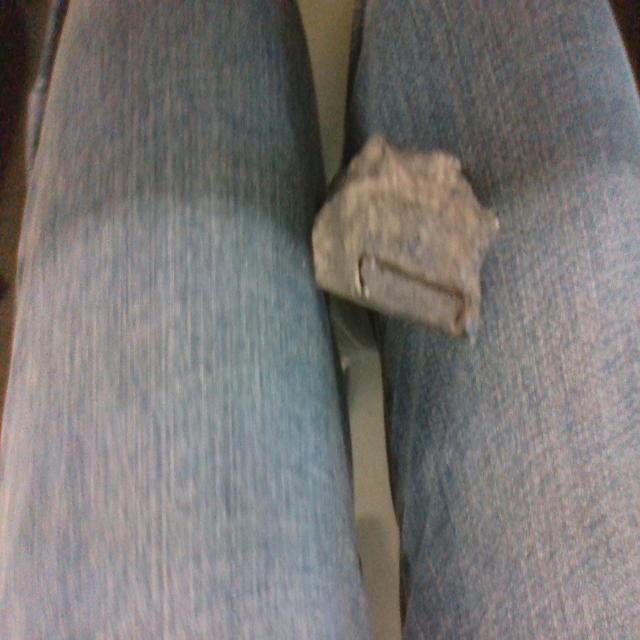stone: (310, 130, 501, 346)
